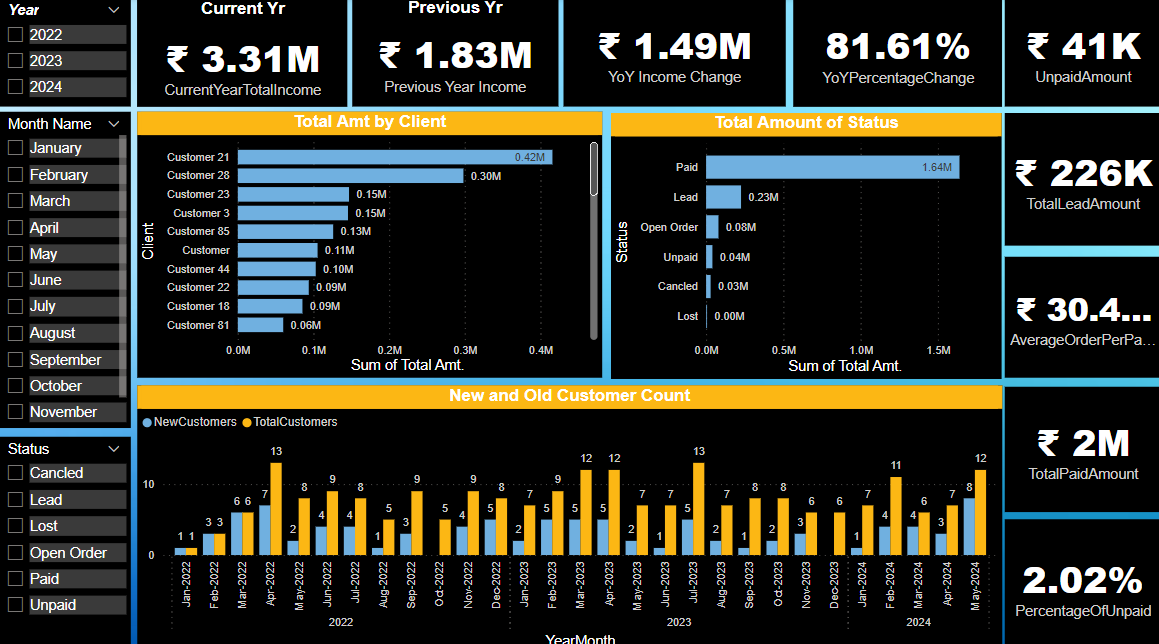

The page's visual inventory and layout, read from the dashboard file:
{"tool":"powerbi","page":{"name":"Page 2","canvas":[1280,720],"ordinal":1},"visuals":[{"type":"card","fields":{"Values":["Income and Expenses(Raw Data).YoYPercentageChange"]},"box":[875.5,0,229.2,119.4],"z":0},{"type":"card","title":"Current Yr","fields":{"Values":["Income and Expenses(Raw Data).TotalIncome"]},"box":[155.1,0,230.5,119.4],"z":1000},{"type":"slicer","fields":{"Values":["DateTable.Year"]},"box":[0,0,148.2,119.4],"z":2000},{"type":"card","fields":{"Values":["Income and Expenses(Raw Data).YoYChange"]},"box":[623,0,244.3,119.4],"z":3000},{"type":"slicer","fields":{"Values":["Income and Expenses(Raw Data).Month Name"]},"box":[0,124.9,148.2,347.2],"z":4000},{"type":"clusteredColumnChart","title":"New and Old Customer Count","fields":{"Y":["Income and Expenses(Raw Data).NewCustomers","Income and Expenses(Raw Data).TotalCustomers"],"Category":["DateTable.Year","DateTable.YearMonth"]},"box":[155.1,425.4,949.6,293.7],"z":5000},{"type":"card","fields":{"Values":["Receivables.TotalLeadAmount"]},"box":[1107.4,126.2,172.9,145.5],"z":6000},{"type":"card","fields":{"Values":["Receivables.UnpaidAmount"]},"box":[1107.4,0,172.9,119.4],"z":7000},{"type":"clusteredBarChart","title":"Total Amount of Status","fields":{"Category":["Receivables.Status","Income and Expenses(Raw Data).year","Income and Expenses(Raw Data).Month Name"],"Y":["Sum(Receivables.Total Amt.)"]},"box":[675,126.4,429.2,291.7],"z":8000},{"type":"card","title":"Previous Yr","fields":{"Values":["Income and Expenses(Raw Data).Previous Year Income"]},"box":[391.1,0,226.4,119.4],"z":9000},{"type":"clusteredBarChart","title":"Total Amt by Client","fields":{"Category":["Receivables.Client"],"Y":["Sum(Receivables.Total Amt.)"]},"box":[155.1,124.9,510.5,292.3],"z":10000},{"type":"slicer","fields":{"Values":["Receivables.Status"]},"box":[0,481.6,148.2,238.8],"z":11000},{"type":"card","fields":{"Values":["Income and Expenses(Raw Data).AverageOrderPerPayee"]},"box":[1107.4,284,172.9,133.1],"z":12000},{"type":"card","fields":{"Values":["Receivables.TotalPaidAmount"]},"box":[1107.1,426.8,172.9,137.2],"z":13000},{"type":"card","fields":{"Values":["Customers.PercentageOfUnpaid"]},"box":[1107.4,572.2,172.9,148.2],"z":14000}]}

Visuals, with their boxes in screenshot pixels (x1, y1, x2, y2), scaled from the page's 1280x720 canvas onto the 1159x644 screenshot:
card - Income and Expenses(Raw Data).YoYPercentageChange: BBox(793, 0, 1000, 107)
"Current Yr" card: BBox(140, 0, 349, 107)
slicer - DateTable.Year: BBox(0, 0, 134, 107)
card - Income and Expenses(Raw Data).YoYChange: BBox(564, 0, 785, 107)
slicer - Income and Expenses(Raw Data).Month Name: BBox(0, 112, 134, 422)
"New and Old Customer Count" clusteredColumnChart: BBox(140, 380, 1000, 643)
card - Receivables.TotalLeadAmount: BBox(1003, 113, 1158, 243)
card - Receivables.UnpaidAmount: BBox(1003, 0, 1158, 107)
"Total Amount of Status" clusteredBarChart: BBox(611, 113, 1000, 374)
"Previous Yr" card: BBox(354, 0, 559, 107)
"Total Amt by Client" clusteredBarChart: BBox(140, 112, 603, 373)
slicer - Receivables.Status: BBox(0, 431, 134, 643)
card - Income and Expenses(Raw Data).AverageOrderPerPayee: BBox(1003, 254, 1158, 373)
card - Receivables.TotalPaidAmount: BBox(1002, 382, 1158, 504)
card - Customers.PercentageOfUnpaid: BBox(1003, 512, 1158, 643)
